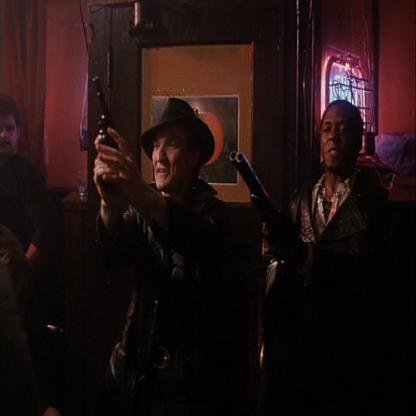Gun: (226, 144, 330, 298), (88, 70, 127, 202)
